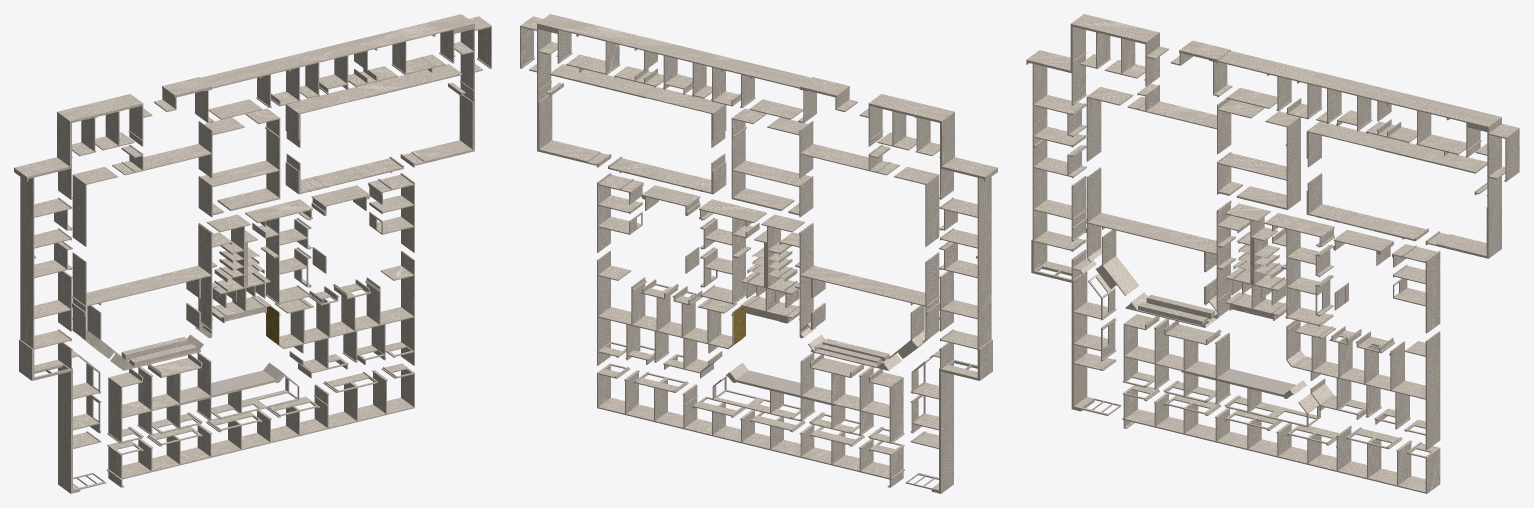
Rendered from willowgarage_collision.dae.glb.
3 renders of one model, left to right at view 1: azimuth 30°, elevation 25°; view 2: azimuth 150°, elevation 25°; view 3: azimuth 330°, elevation 25°, orthographic. The views are drawn at different scales.
Parts seen in each view (by area): view 1: SketchUp.015, SketchUp.006, SketchUp.025, SketchUp.028, SketchUp.024, SketchUp.019, SketchUp.017, SketchUp.022, SketchUp.004, SketchUp.005, SketchUp.002, SketchUp.029 (+11 smaller); view 2: SketchUp.006, SketchUp.015, SketchUp.025, SketchUp.028, SketchUp.024, SketchUp.019, SketchUp.004, SketchUp.017, SketchUp.022, SketchUp.005, SketchUp.002, SketchUp.037 (+15 smaller); view 3: SketchUp.015, SketchUp.006, SketchUp.025, SketchUp.028, SketchUp.024, SketchUp.019, SketchUp.017, SketchUp.022, SketchUp.004, SketchUp.005, SketchUp.002, SketchUp.029 (+10 smaller).
Part boxes in pixels (x1,y1,x2,y2): SketchUp.015: [14, 94, 152, 493]; SketchUp.006: [154, 14, 491, 167]; SketchUp.025: [107, 364, 414, 487]; SketchUp.028: [271, 251, 414, 378]; SketchUp.024: [107, 352, 299, 443]; SketchUp.019: [72, 223, 232, 342]; SketchUp.017: [207, 214, 270, 323]; SketchUp.022: [245, 199, 312, 304]; SketchUp.004: [198, 108, 280, 217]; SketchUp.005: [285, 64, 462, 147]; SketchUp.002: [112, 117, 244, 178]; SketchUp.029: [368, 173, 414, 252]; SketchUp.006: [520, 14, 857, 167]; SketchUp.015: [860, 94, 997, 490]; SketchUp.025: [597, 363, 904, 487]; SketchUp.028: [597, 251, 740, 377]; SketchUp.024: [713, 352, 904, 443]; SketchUp.019: [780, 223, 939, 340]; SketchUp.004: [731, 108, 813, 217]; SketchUp.017: [741, 214, 804, 322]; SketchUp.022: [699, 199, 766, 303]; SketchUp.005: [549, 64, 726, 147]; SketchUp.002: [767, 117, 899, 178]; SketchUp.037: [859, 103, 984, 493]; SketchUp.015: [1026, 14, 1168, 415]; SketchUp.006: [1170, 40, 1519, 258]; SketchUp.025: [1122, 384, 1440, 493]; SketchUp.028: [1286, 320, 1440, 449]; SketchUp.024: [1122, 314, 1320, 427]; SketchUp.019: [1085, 167, 1250, 318]; SketchUp.017: [1225, 203, 1286, 320]; SketchUp.022: [1264, 213, 1334, 326]; SketchUp.004: [1217, 111, 1300, 209]; SketchUp.005: [1306, 121, 1487, 173]; SketchUp.002: [1127, 83, 1264, 154]; SketchUp.029: [1392, 244, 1440, 333].
Bounding box in the file's own units: 58.63 × 45.67 × 2.84.
Materials: 14 (3 with a texture image).
